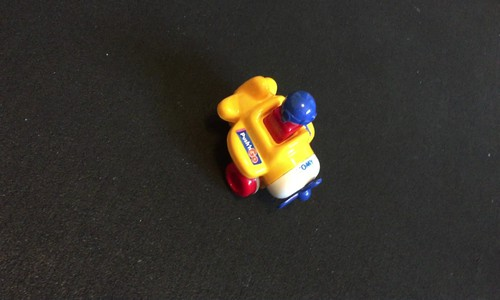toy: (215, 67, 339, 211)
